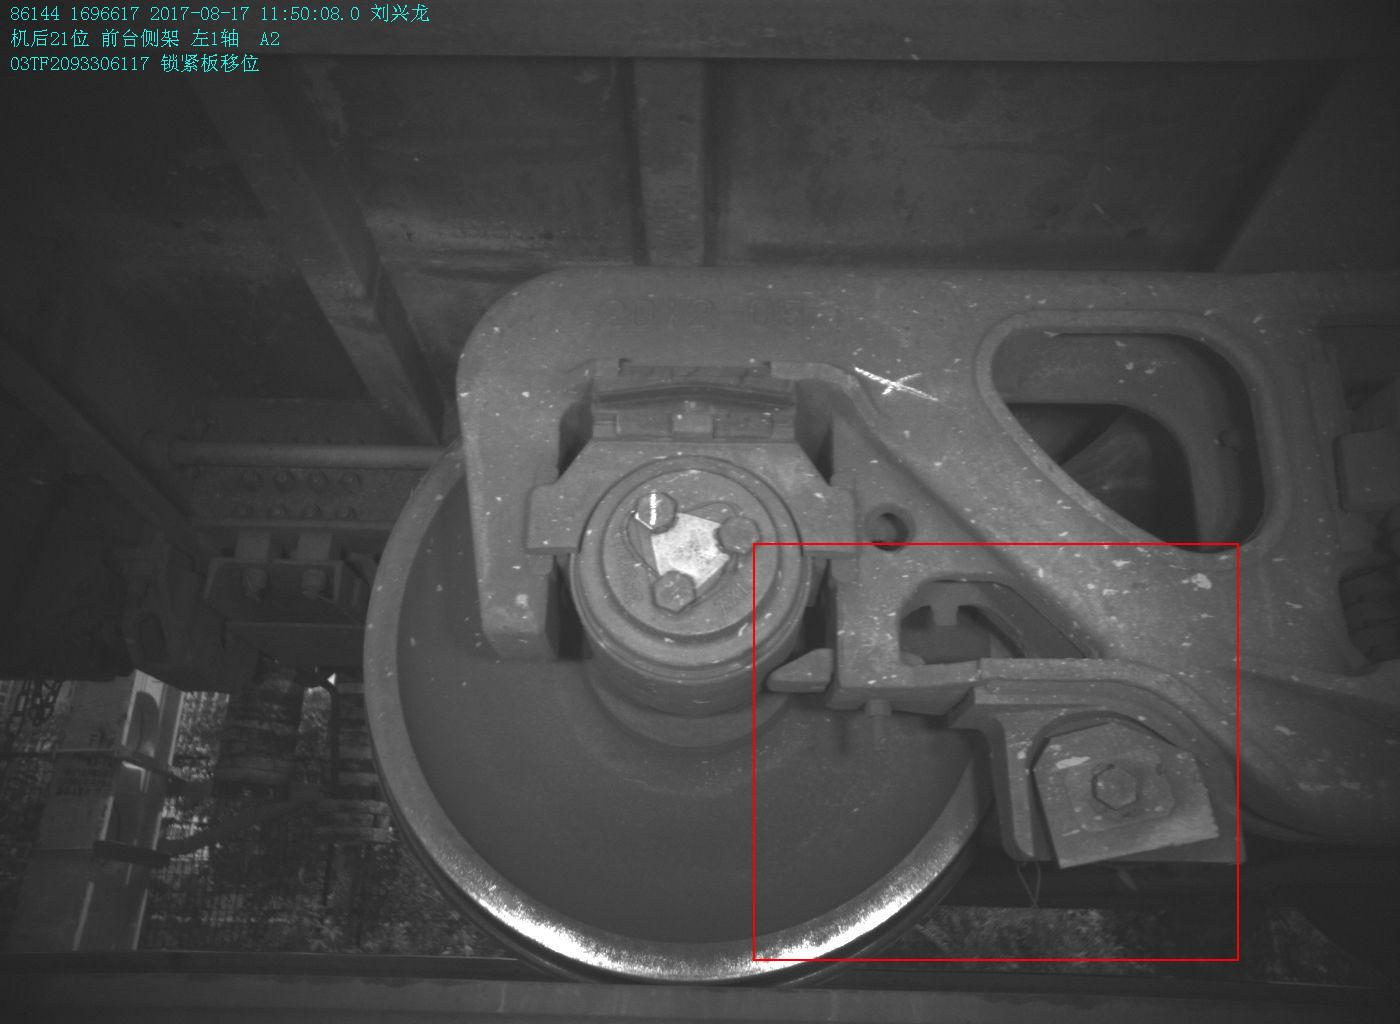Locking plate: (1001, 703, 1243, 873)
